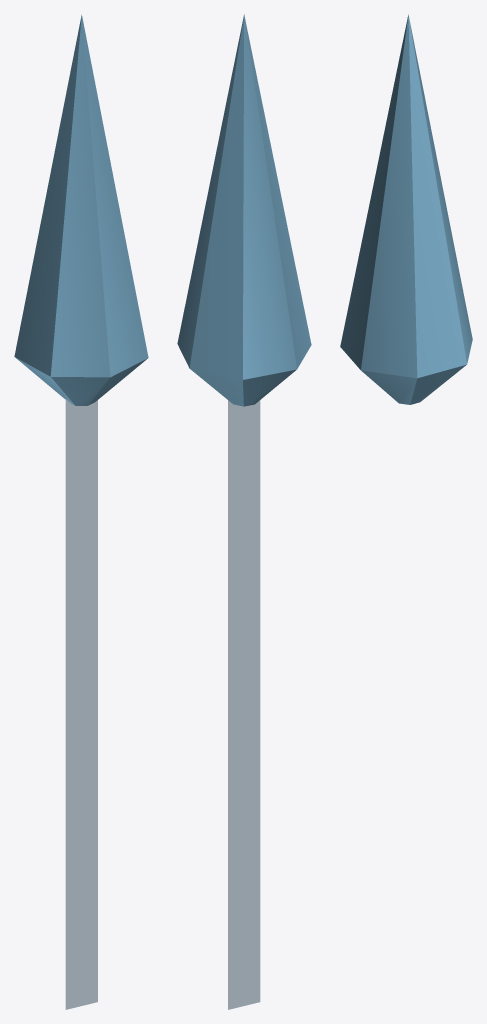
The model's file is Ganyu_FrostflakeArrowBloom_FrostflakeArrow.fbx.
The picture shows the model from 3 angles, left to right: view 1: azimuth 30°, elevation 25°; view 2: azimuth 210°, elevation 25°; view 3: azimuth 270°, elevation 25°; orthographic projection.
Visible parts, largest first — view 1: PART_FrostflakeArrowHead, PART_ArrowWhiteColdShaft; view 2: PART_FrostflakeArrowHead, PART_ArrowWhiteColdShaft; view 3: PART_FrostflakeArrowHead.
Boxes of the visible parts, x1,y1,x2,y2 form: PART_FrostflakeArrowHead: [14, 14, 148, 405]; PART_ArrowWhiteColdShaft: [65, 399, 97, 1009]; PART_FrostflakeArrowHead: [177, 14, 311, 406]; PART_ArrowWhiteColdShaft: [228, 400, 260, 1009]; PART_FrostflakeArrowHead: [340, 14, 472, 404].
Size of the model in its own units: 19.41 by 159 by 19.33.
